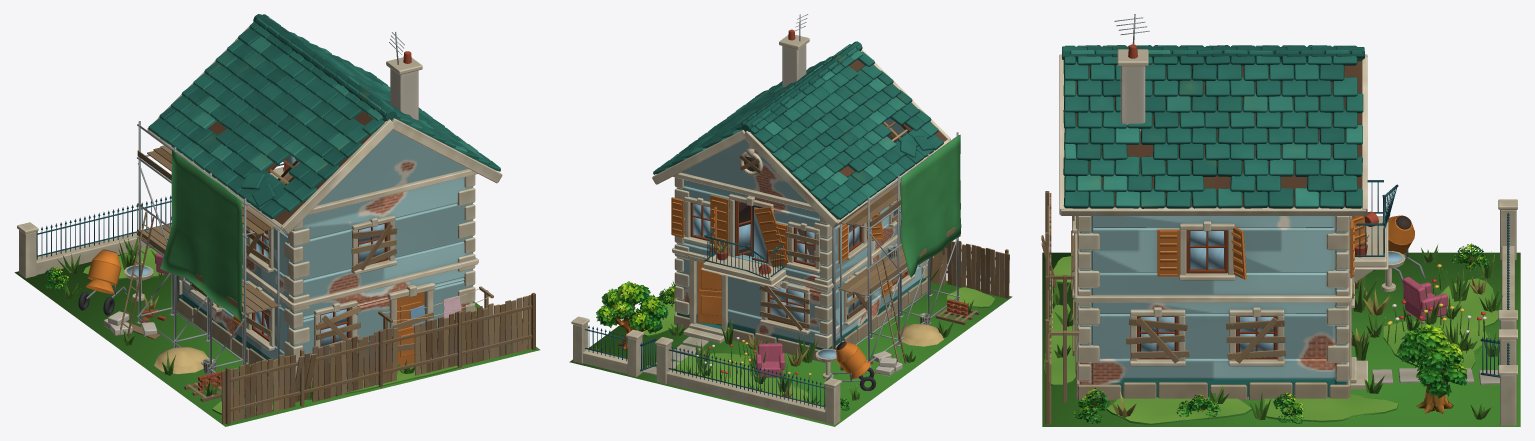
Rendered from Lot_Sobrado.fbx.
The picture shows the model from 3 angles, left to right: view 1: azimuth 30°, elevation 25°; view 2: azimuth 150°, elevation 25°; view 3: azimuth 270°, elevation 25°; orthographic projection. The views are drawn at different scales.
Parts seen in each view (by area): view 1: SOB_house, SOB_roof, SOB_yard, SOB_scaffold, SOB_pad, SOB_junk; view 2: SOB_house, SOB_roof, SOB_yard, SOB_scaffold, SOB_pad, SOB_junk; view 3: SOB_house, SOB_roof, SOB_yard, SOB_pad, SOB_junk.
Part boxes in pixels (box(x1,y1,x2,y2)): SOB_house: box(171, 129, 478, 385); SOB_roof: box(147, 14, 502, 234); SOB_yard: box(17, 195, 535, 424); SOB_scaffold: box(119, 121, 281, 398); SOB_pad: box(14, 247, 539, 426); SOB_junk: box(78, 249, 493, 401); SOB_house: box(671, 118, 927, 362); SOB_roof: box(652, 14, 950, 227); SOB_yard: box(571, 241, 1009, 424); SOB_scaffold: box(838, 132, 961, 374); SOB_pad: box(569, 280, 1012, 426); SOB_junk: box(756, 245, 979, 390); SOB_house: box(1071, 180, 1398, 400); SOB_roof: box(1059, 14, 1367, 215); SOB_yard: box(1041, 191, 1517, 425); SOB_pad: box(1042, 252, 1520, 426); SOB_junk: box(1050, 215, 1447, 402).
Size of the model in its own units: 10 by 9.51 by 11.62.
Materials: 1 (1 with a texture image).
